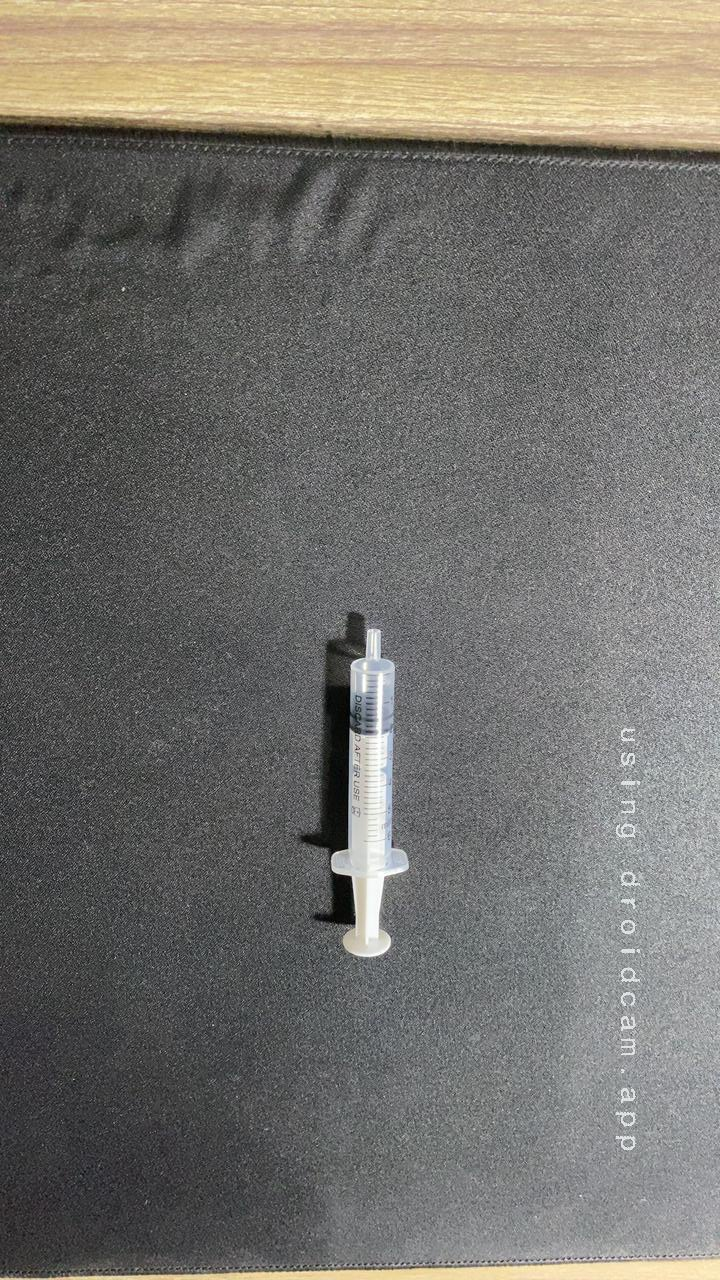syringe: (289, 601, 434, 972)
